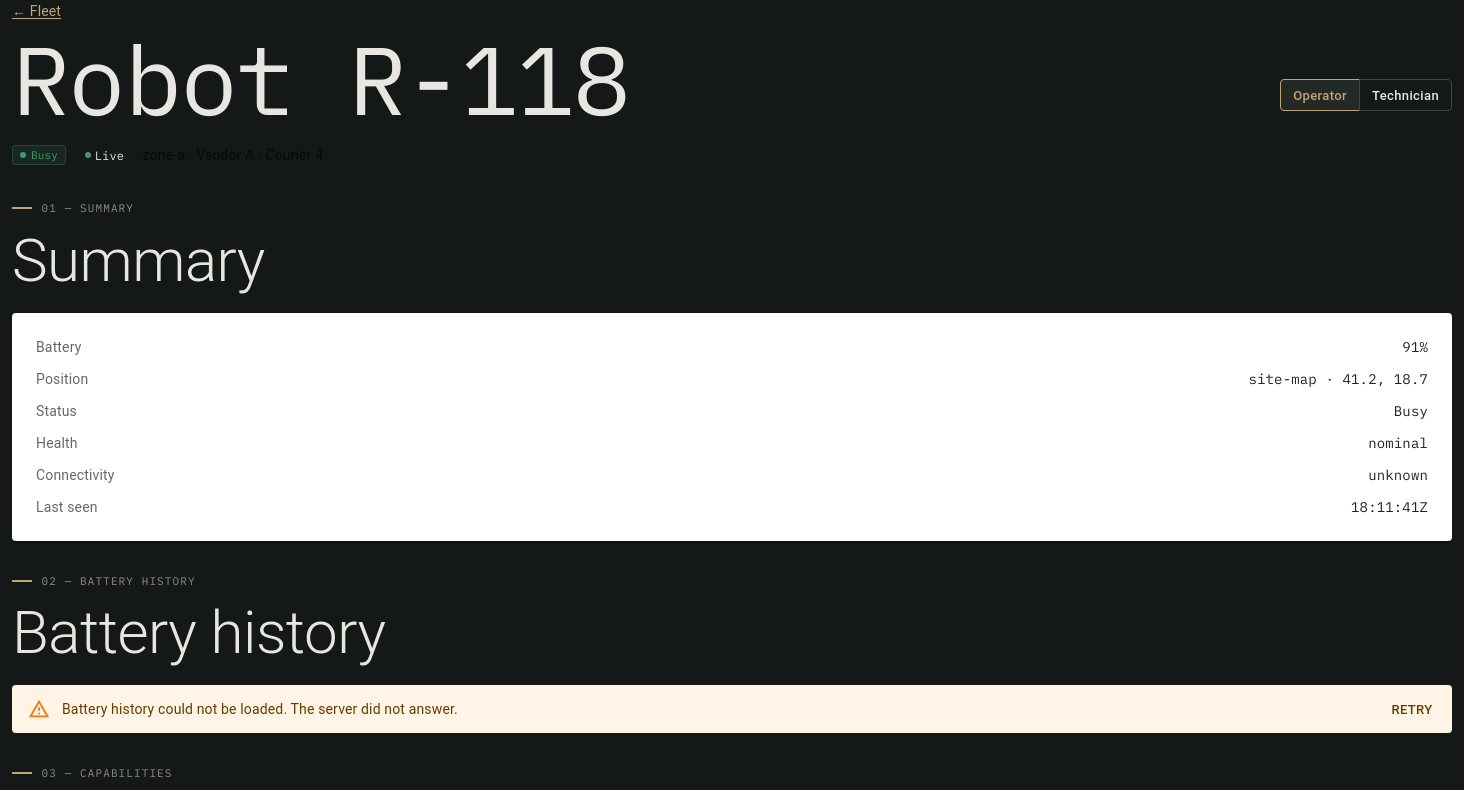
Test case: RobotDetailPage › leaves the technician toggle and its sections untouched by history
The width and height of the screenshot is (1464, 790).
Click the button "Technician" at [1406, 95], box 1359,79 -> 1452,111
(page scrolled)
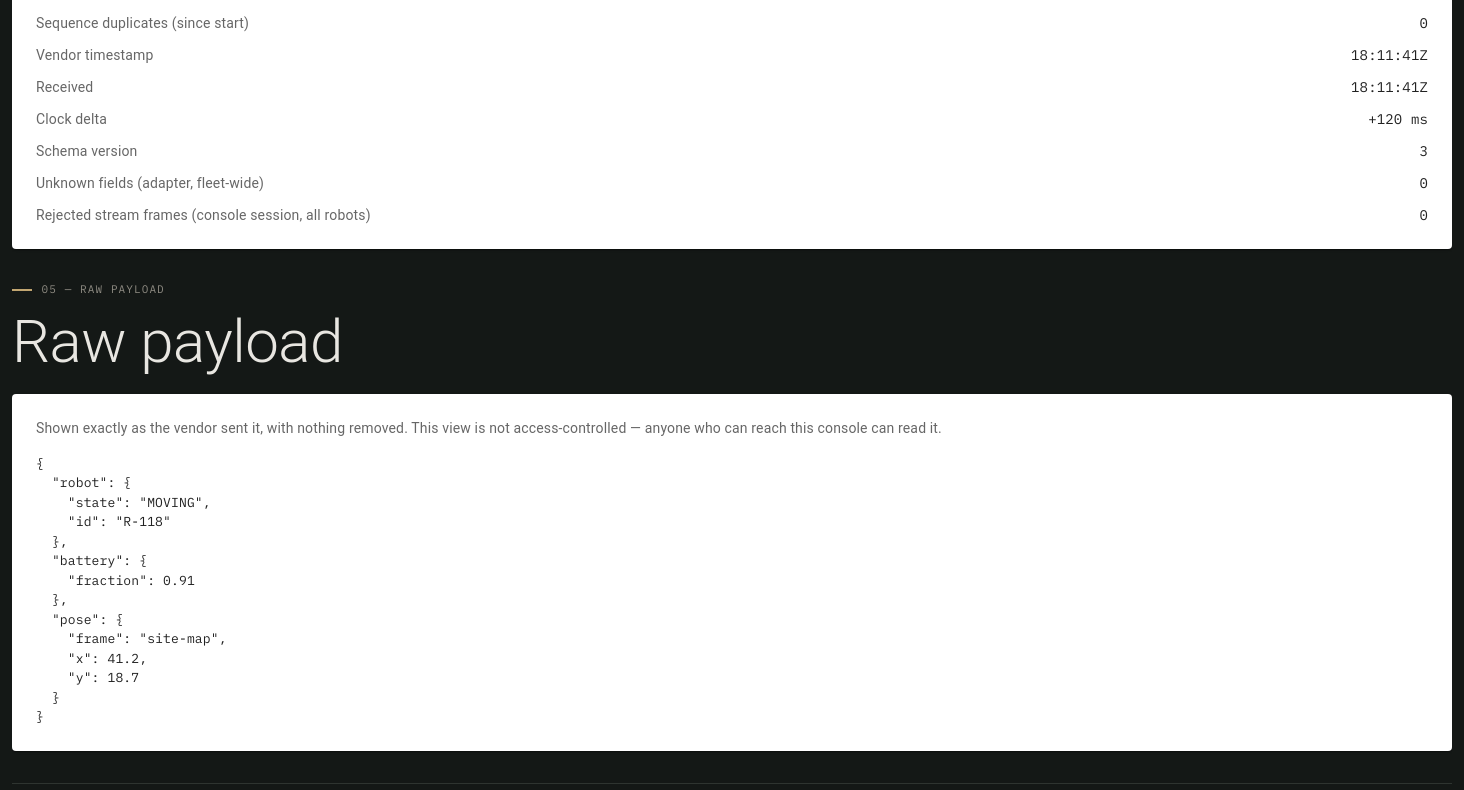
Check: the element "Raw payload" is shown, box 12,281 -> 1452,751
